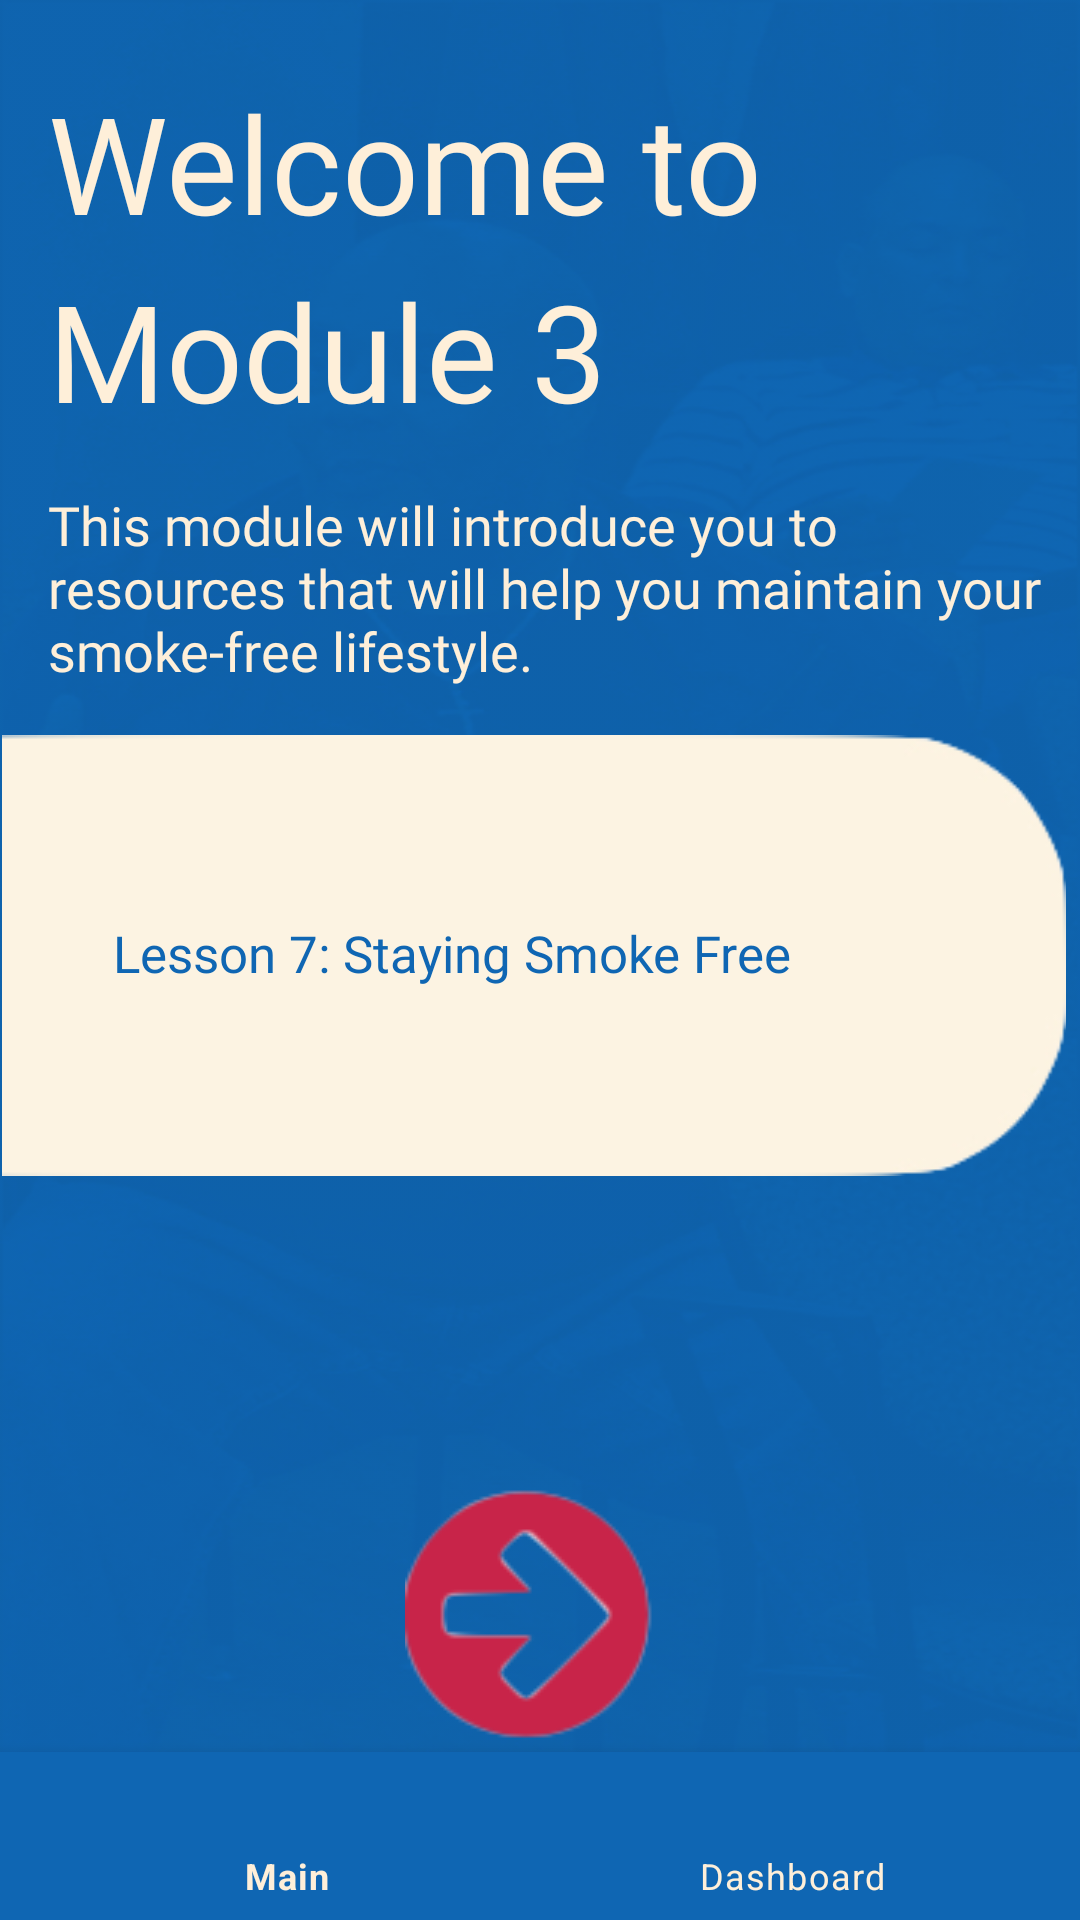

Screen size 1080 x 1920. Icon name, then its box in pixels as (x1, y1, x2, y2):
next: (405, 1490, 652, 1738)
